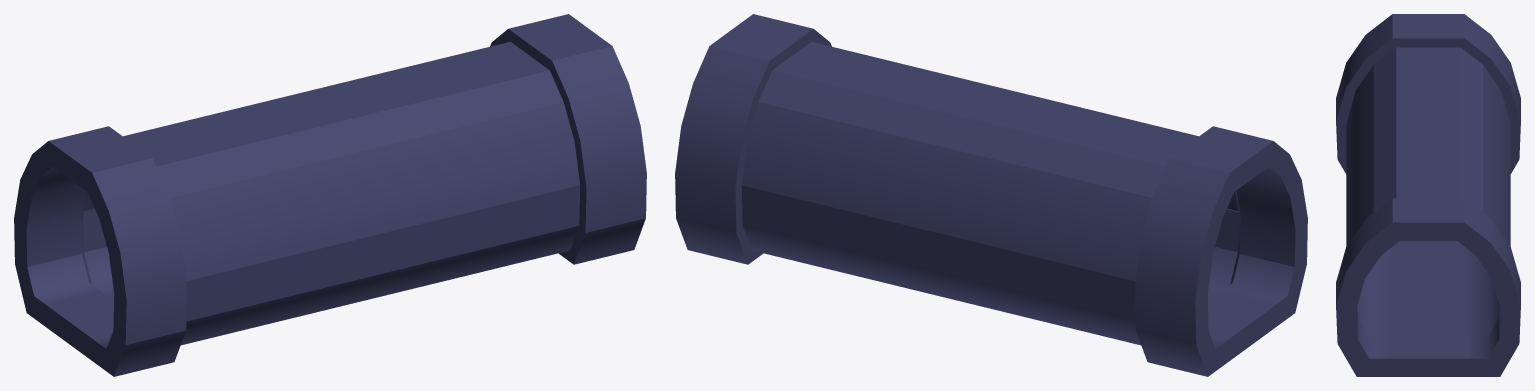
File: tunnel.fbx
The picture shows the model from 3 angles, left to right: view 1: azimuth 30°, elevation 25°; view 2: azimuth 150°, elevation 25°; view 3: azimuth 270°, elevation 25°; orthographic projection. The views are drawn at different scales.
Parts seen in each view (by area): view 1: tunnel_new, tunnel_new_joint.002, tunnel_glass; view 2: tunnel_new, tunnel_new_joint.002, tunnel_glass; view 3: tunnel_new, tunnel_new_joint.002, tunnel_glass.
Boxes of the visible parts, bbox=[...] form: tunnel_new: bbox=[83, 41, 580, 345]; tunnel_new_joint.002: bbox=[14, 14, 646, 376]; tunnel_glass: bbox=[84, 102, 579, 281]; tunnel_new: bbox=[741, 41, 1238, 345]; tunnel_new_joint.002: bbox=[675, 14, 1307, 376]; tunnel_glass: bbox=[742, 102, 1237, 281]; tunnel_new: bbox=[1357, 47, 1499, 336]; tunnel_new_joint.002: bbox=[1336, 14, 1520, 376]; tunnel_glass: bbox=[1346, 65, 1510, 246].
Size of the model in its own units: 301 by 113 by 104.
